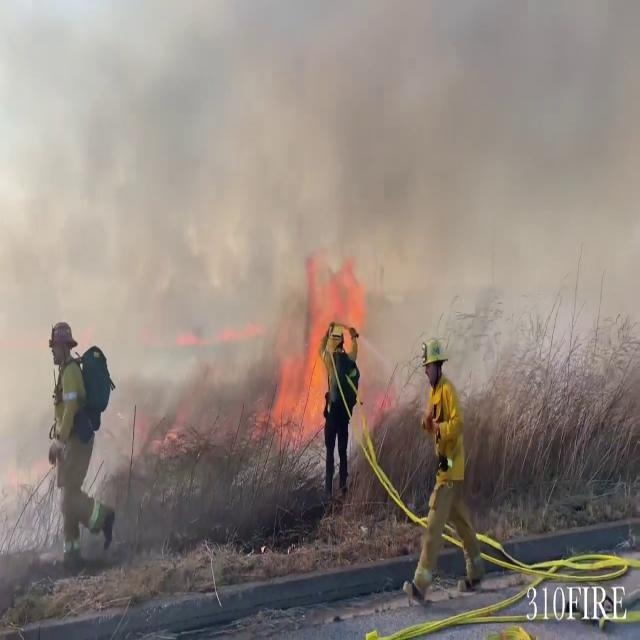Fire: (262, 257, 363, 446)
Smoke: (36, 0, 640, 418)
